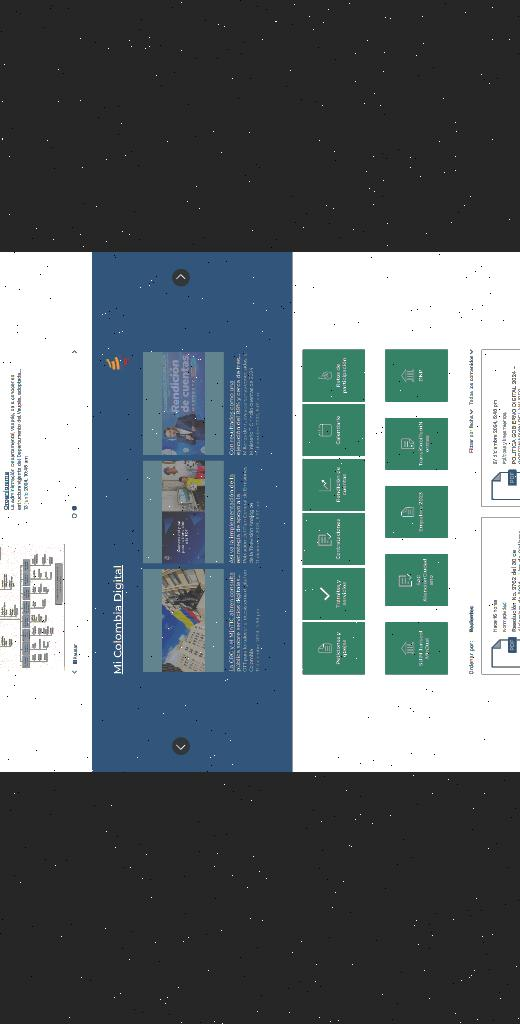btn tramites: (333, 574, 347, 614)
